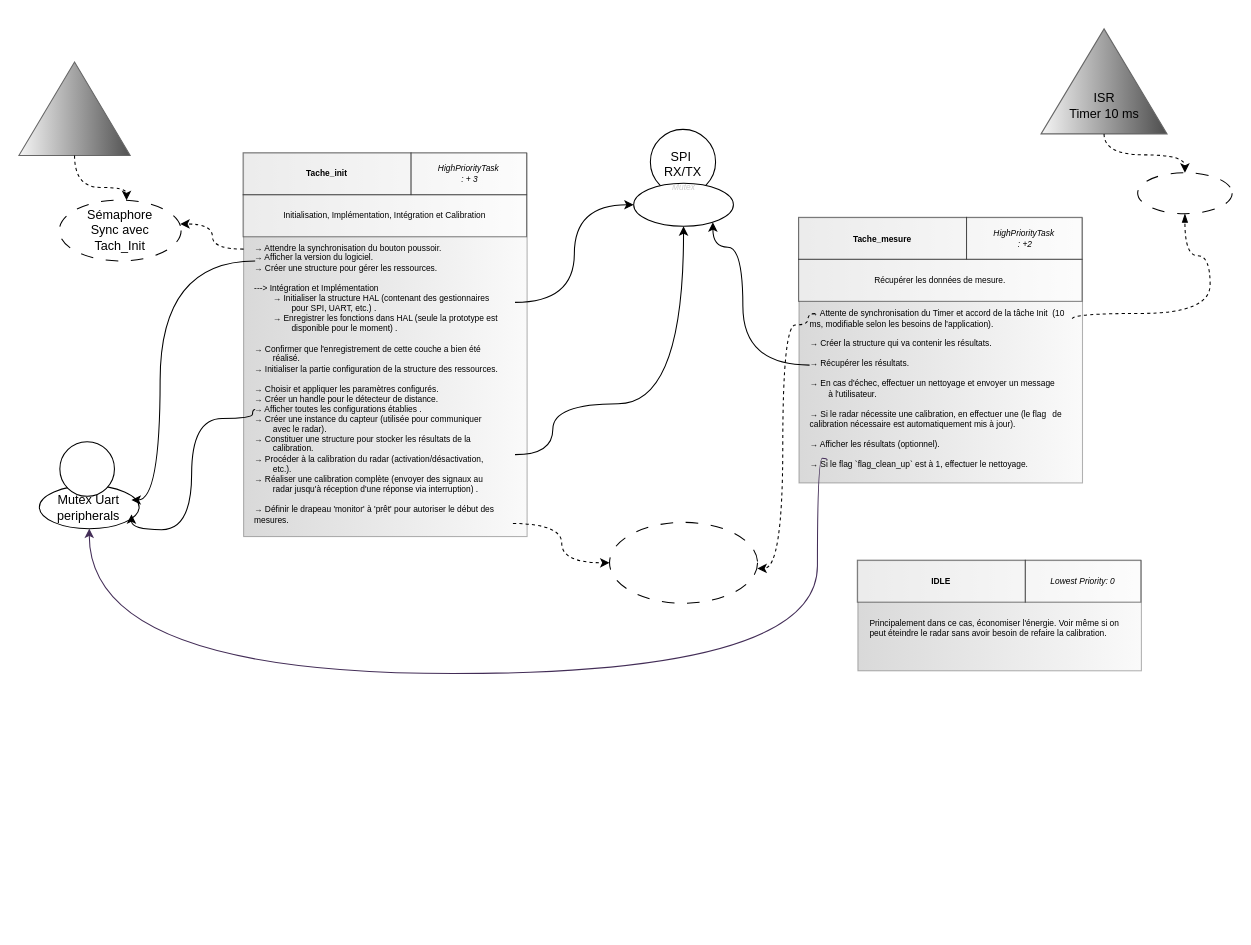
The diagram is 1251 pixels wide and 945 high, and some of its shapes have lost their labels. Here are the shapes that lost their labels. From the top down, the centre of each, then its label:
At (x=74, y=108): "ISR EXTI Blue button".
At (x=683, y=204): "Mutex SPI peripherals".
At (x=1184, y=193): "Sémaphore TimerSync".
At (x=86, y=468): "UART TX".
At (x=683, y=562): "Sémaphore pour signaler à la tâche de mesure de commencer.".
